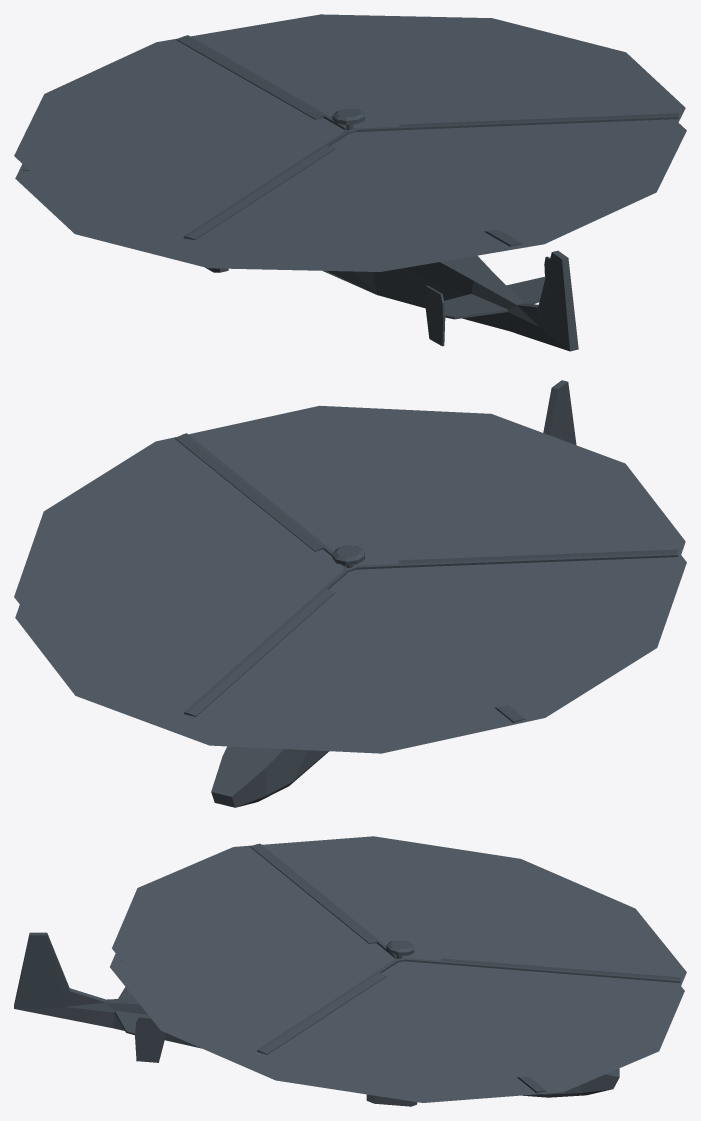
The model's file is Heli-KA50.glb.
3 renders of one model, top to bottom at view 1: azimuth 30°, elevation 25°; view 2: azimuth 150°, elevation 25°; view 3: azimuth 270°, elevation 25°, orthographic. The views are drawn at different scales.
Bounding box in the file's own units: 14.69 × 4.33 × 17.12.
